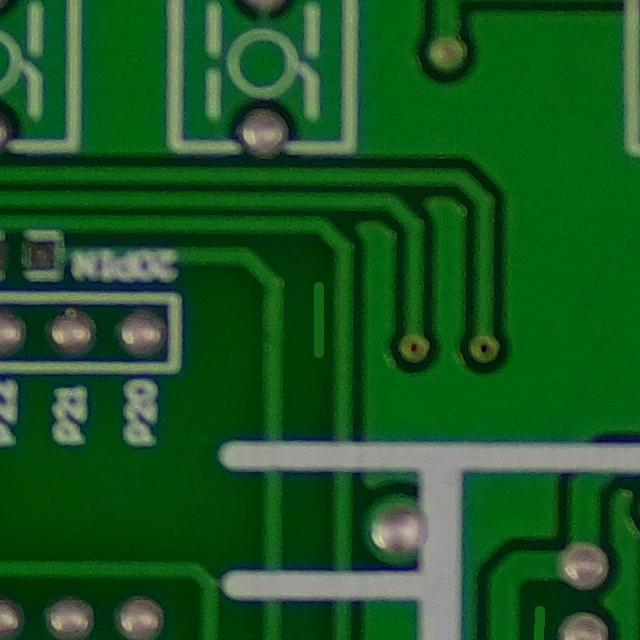spurious_copper: (297, 268, 344, 372)
